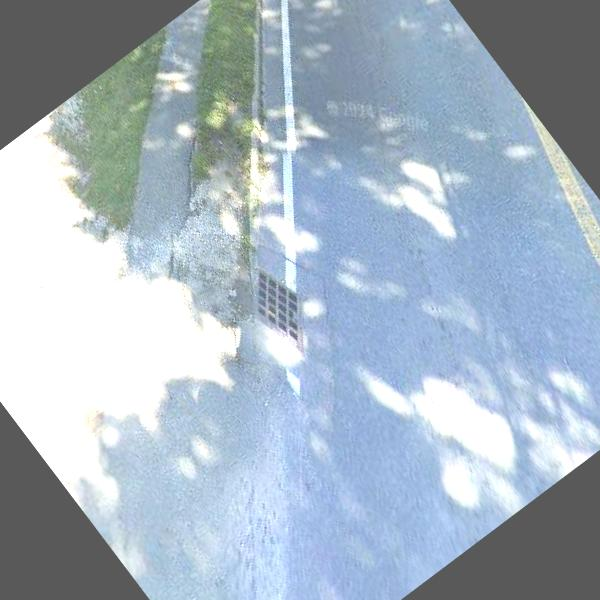manhole: (224, 254, 332, 373)
